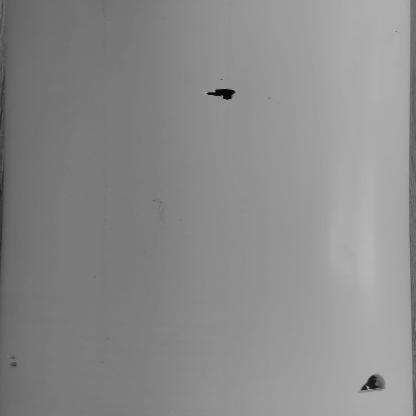kongdong: (345, 372, 396, 399), (204, 80, 249, 107)
